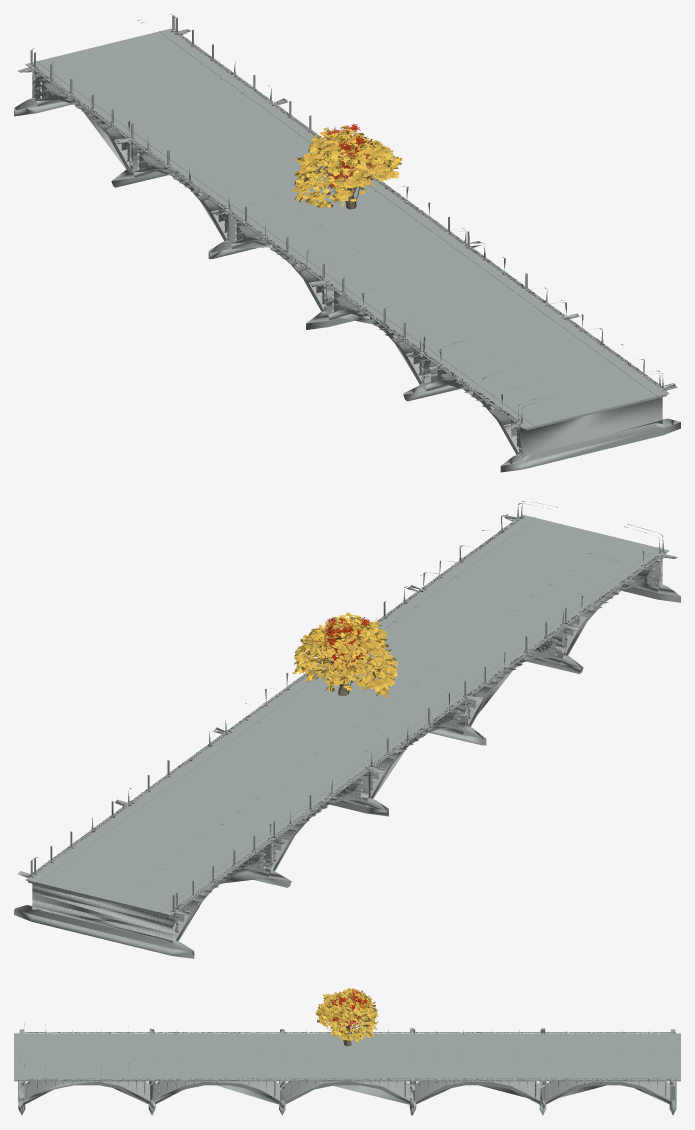
The model's file is landscape.glb.
3 views of the same model, one above another, from view 1: azimuth 30°, elevation 25°; view 2: azimuth 150°, elevation 25°; view 3: azimuth 270°, elevation 25° (orthographic). The views are drawn at different scales.
Parts seen in each view (by area): view 1: bridge, bridge far, yellow tree, tree; view 2: bridge, yellow tree, bridge far, tree; view 3: bridge, yellow tree, bridge far, tree.
Part boxes in pixels (bbox=[...]): bridge: bbox=[14, 14, 680, 472]; bridge far: bbox=[32, 29, 668, 456]; yellow tree: bbox=[291, 125, 401, 208]; tree: bbox=[324, 124, 375, 208]; bridge: bbox=[14, 501, 680, 958]; yellow tree: bbox=[292, 612, 398, 697]; bridge far: bbox=[26, 503, 662, 942]; tree: bbox=[315, 616, 370, 694]; bridge: bbox=[14, 1022, 680, 1115]; yellow tree: bbox=[315, 988, 378, 1046]; bridge far: bbox=[15, 1033, 679, 1104]; tree: bbox=[330, 989, 368, 1044].
Size of the model in its own units: 6.48 by 4.92 by 31.
Materials: 11 (10 with a texture image).
